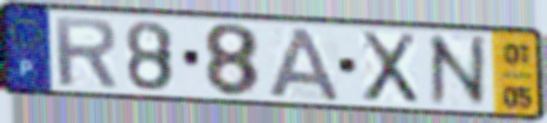8: (201, 20, 264, 100), (122, 18, 177, 93)
A: (266, 25, 345, 104)
N: (424, 32, 492, 110)
R: (49, 14, 121, 90)
X: (357, 29, 421, 107)
